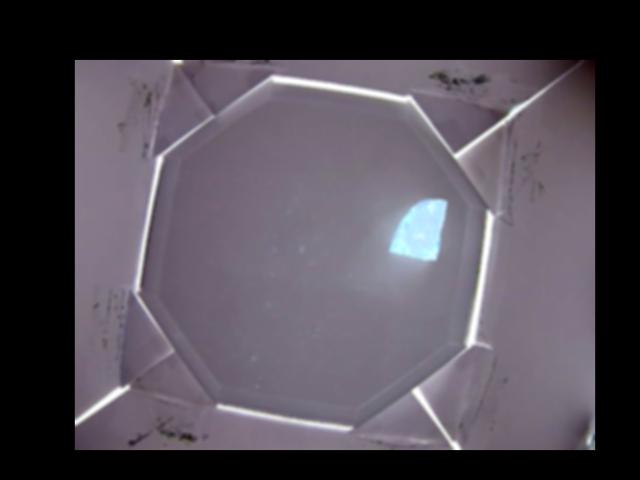Brisk: (389, 196, 450, 260)
